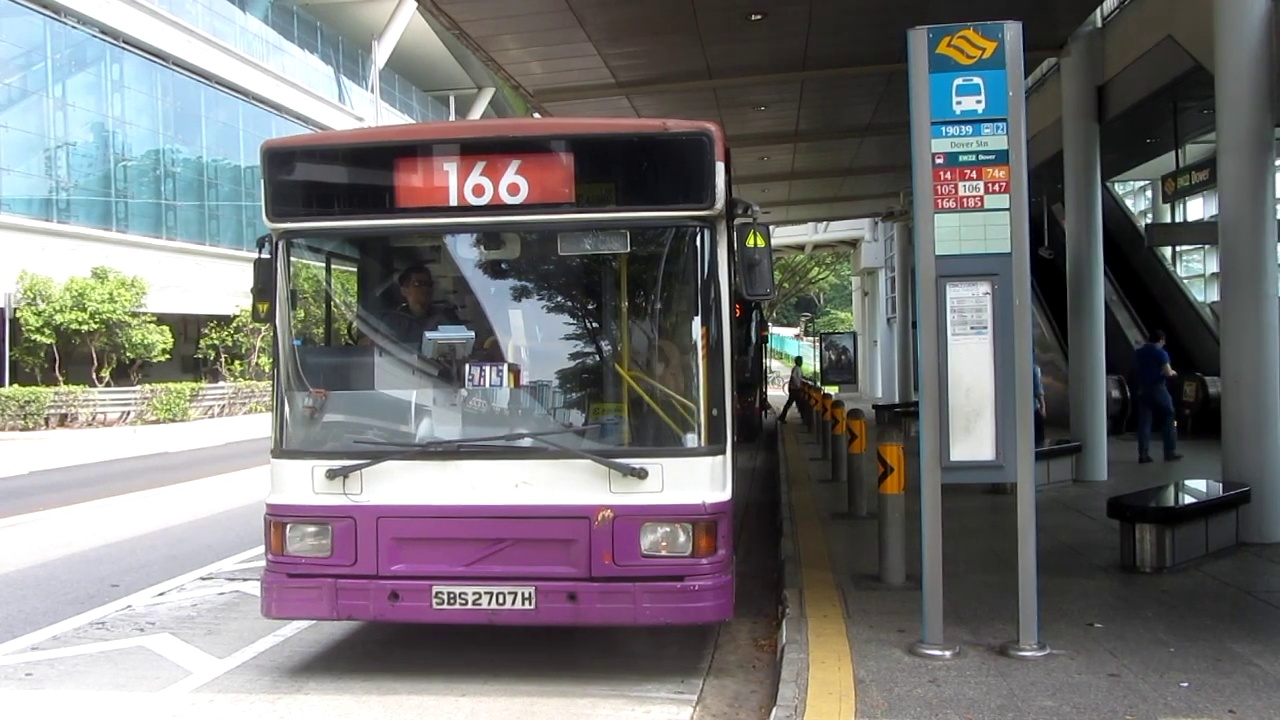bus panel: (390, 149, 579, 210)
